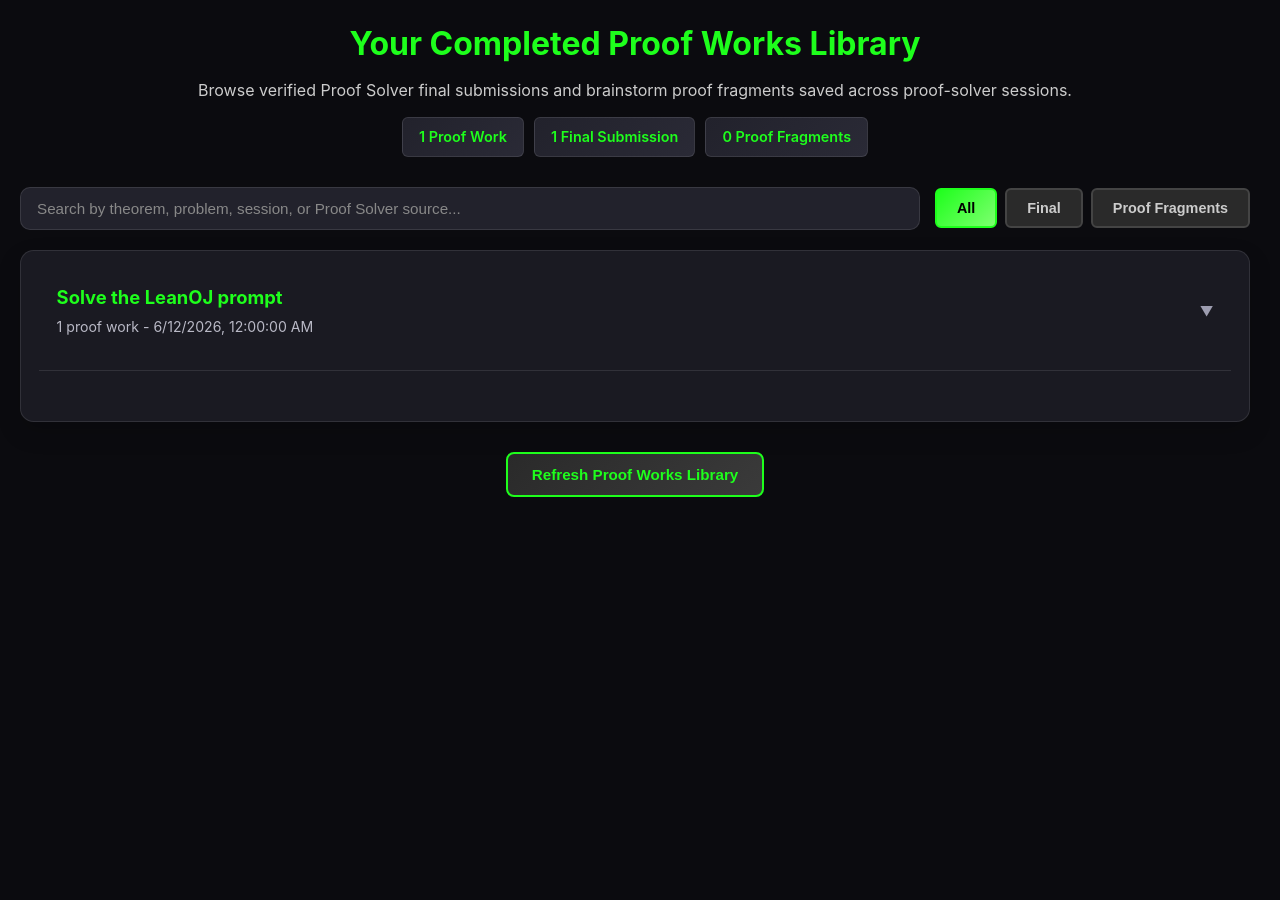
Scenario: keeps LeanOJ session proofs collapsed until the prompt is expanded
The image size is (1280, 900).
Expected: the text "LeanOJ.Collapsed" is not shown
Click the button "Solve the LeanOJ prompt".
click(170, 297)  # box [39, 269, 1231, 354]
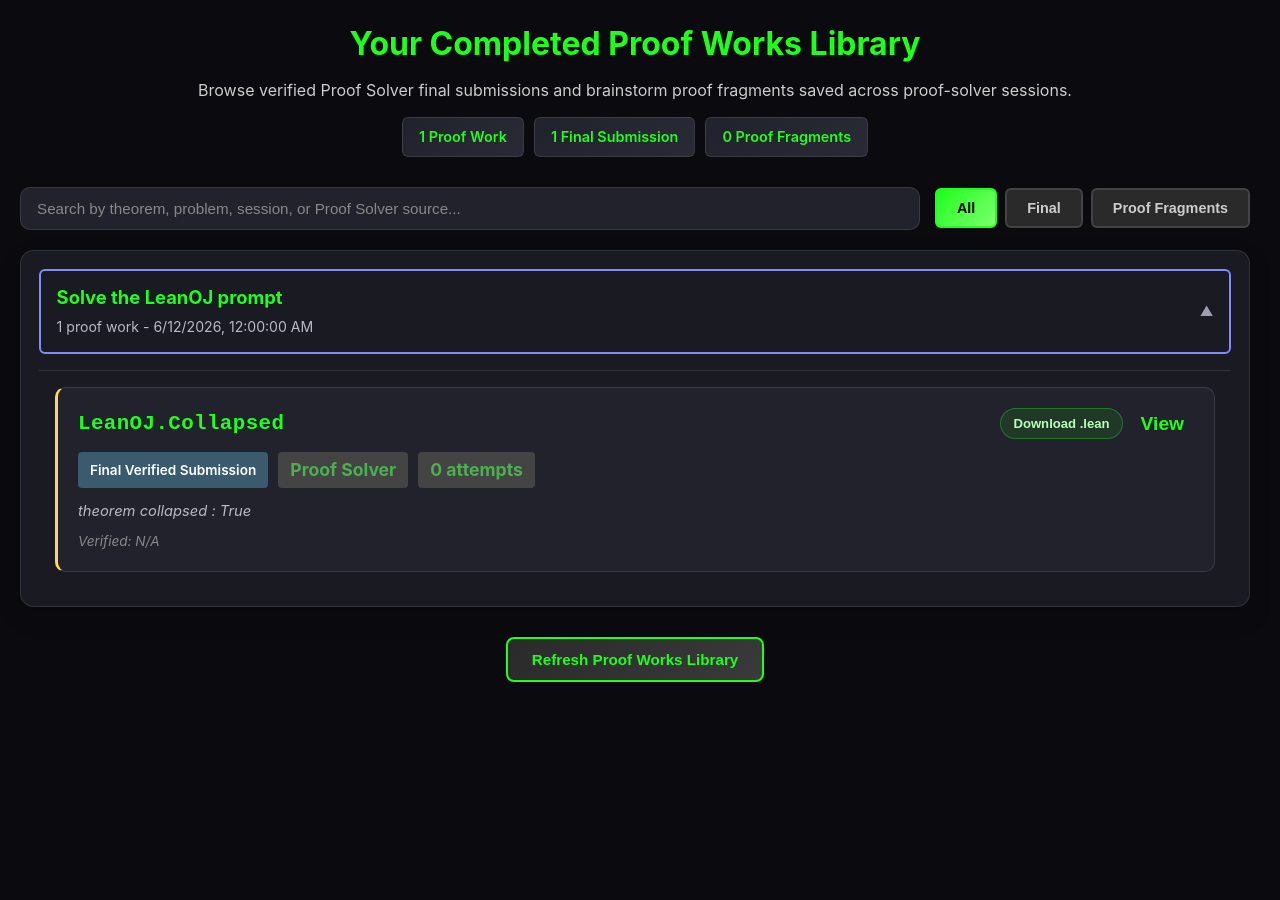
Expected: the heading "LeanOJ.Collapsed" is shown, [78, 412, 284, 435]
